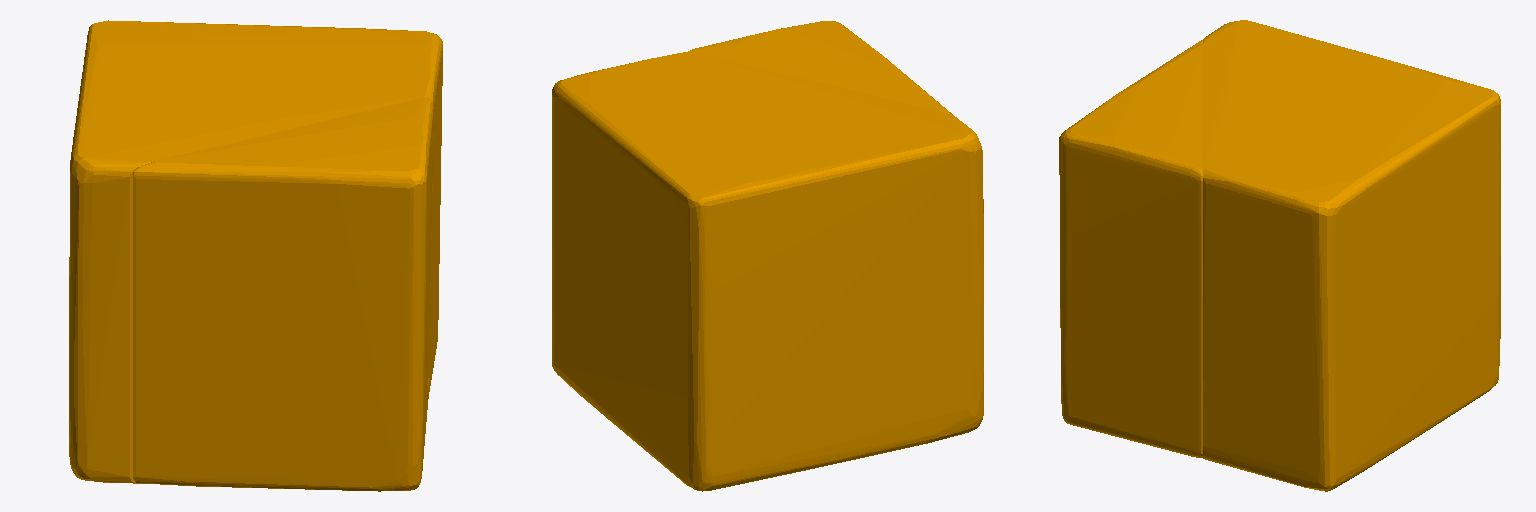
robot.urdf — 070-b_colored_wood_blocks:
<?xml version="1.0" encoding="UTF-8"?>
<robot name="070-b_colored_wood_blocks">
	<link name="base">
		<collision>
			<geometry>
				<mesh filename="..\vhacd\070-b_colored_wood_blocks_vhacd.obj" scale="1.0 1.0 1.0"/>
			</geometry>
			<origin xyz="0 0 0"/>
			<contact_coefficients mu="0.24" />
		</collision>
		<visual>
			<geometry>
				<mesh filename="..\vhacd\070-b_colored_wood_blocks_vhacd.obj" scale="1.0 1.0 1.0"/>
			</geometry>
			<origin xyz="0 0 0"/>
		</visual>
		<inertial>
			<mass value="0"/>
			<inertia ixx="0.0" ixy="-0.0" ixz="-0.0" iyy="0.0" iyz="0.0" izz="0.0" />
			<origin xyz="-0.018821263933948933 -0.008818559889628286 0.012633433817523469"/>
		</inertial>
	</link>
</robot>

--- Facts derived from the render (not from the file) ---
Views: 3 orthographic renders of the robot side by side, from view 1: azimuth 30°, elevation 25°; view 2: azimuth 150°, elevation 25°; view 3: azimuth 270°, elevation 25°.
Model 070-b_colored_wood_blocks with 1 links and 0 joints (none), rooted at base, posed all joints at 0.
Links seen in each view (by area): view 1: base; view 2: base; view 3: base.
Boxes of the visible links, left/top/right/bottom form: base: left=69, top=20, right=442, bottom=491; base: left=552, top=21, right=983, bottom=491; base: left=1059, top=20, right=1500, bottom=491.
Size in the robot's own frame: 0.0351 by 0.0351 by 0.026 metres.
1 mesh visuals loaded from 1 distinct referenced files (1 OBJ).